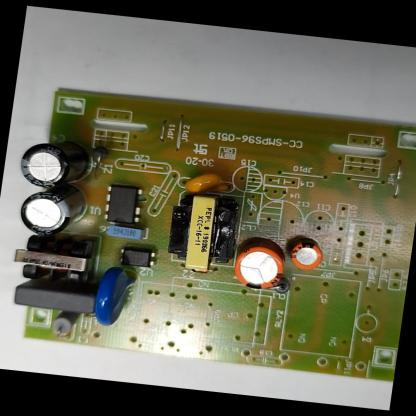Cap1: (229, 242, 290, 293)
Cap2: (288, 239, 326, 272)
Cap3: (15, 184, 91, 242)
Cap4: (16, 136, 99, 192)
MOSFET: (99, 182, 145, 226)
Mov: (89, 264, 140, 330)
Resistor: (45, 308, 85, 342)
Transformer: (162, 191, 244, 276), (9, 233, 103, 288)
